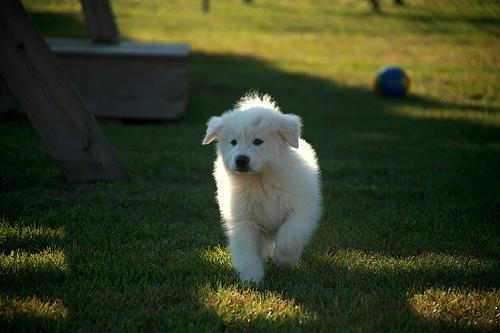Great_Pyrenees: (200, 93, 323, 285)
